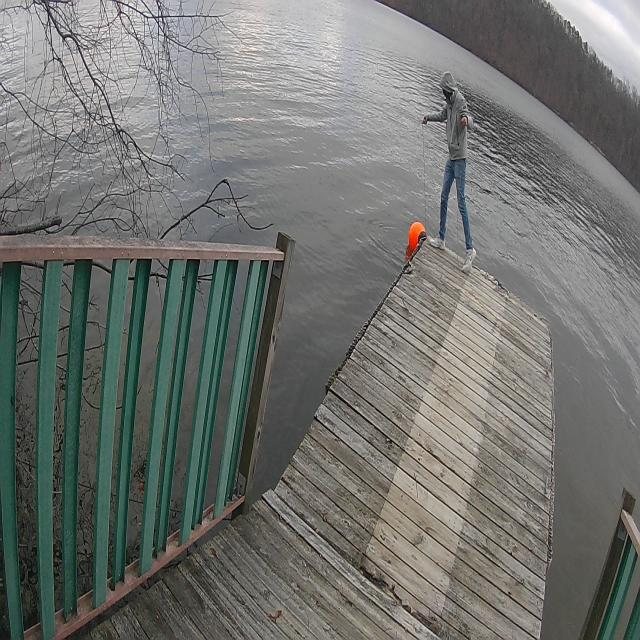Buoy: (406, 215, 429, 252)
